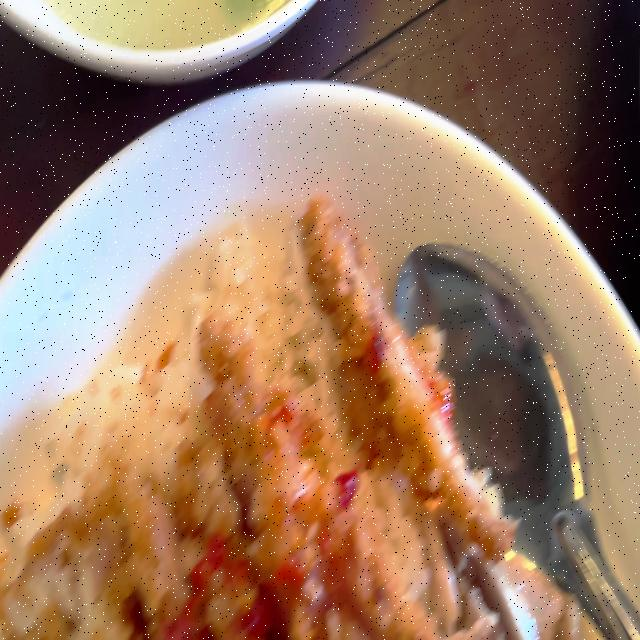chicken_rice: (0, 204, 591, 640)
fried_chicken: (104, 210, 499, 640)
